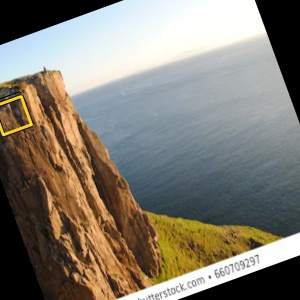square: (1, 92, 36, 138)
